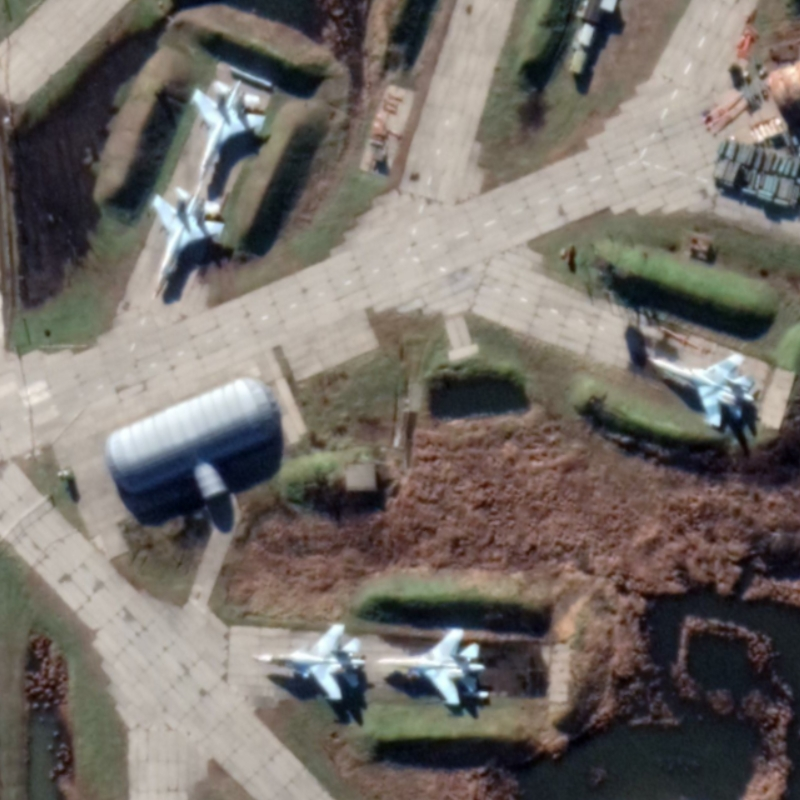A1: (375, 625, 487, 708), (646, 349, 757, 430), (151, 184, 227, 302), (188, 77, 268, 183)
A19: (250, 621, 368, 703)
